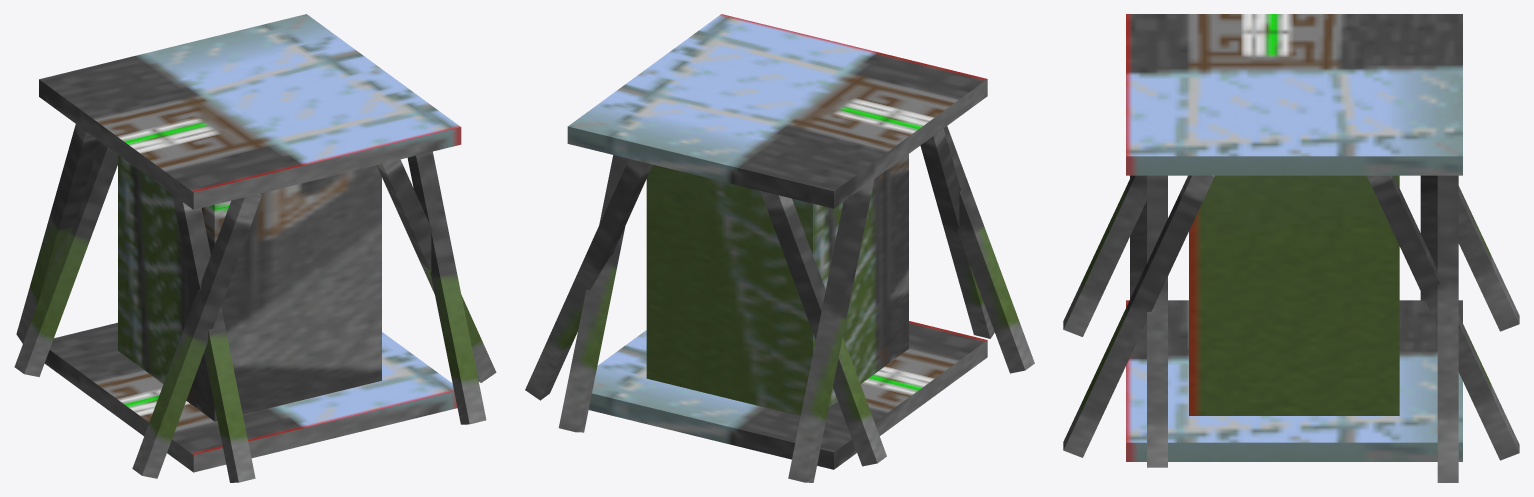
File: elevator_base.obj
3 views of the same model, side by side, from view 1: azimuth 30°, elevation 25°; view 2: azimuth 150°, elevation 25°; view 3: azimuth 270°, elevation 25° (orthographic). The views are drawn at different scales.
Parts seen in each view (by area): view 1: Floor, Pole5, Base, Support5, Support4, Support3, Support6, Support1, Support7; view 2: Floor, Pole5, Base, Support1, Support6, Support8, Support5, Support2, Support3; view 3: Floor, Pole5, Base, Support4, Support8, Support2, Support7, Support3, Support1, Support6, Support5.
Part boxes in pixels (left/top/right/bottom): Floor: left=39, top=14, right=461, bottom=209; Pole5: left=118, top=155, right=381, bottom=421; Base: left=44, top=322, right=457, bottom=472; Support5: left=132, top=194, right=261, bottom=478; Support4: left=407, top=151, right=486, bottom=424; Support3: left=172, top=194, right=255, bottom=482; Support6: left=14, top=141, right=117, bottom=377; Support1: left=16, top=124, right=98, bottom=343; Support7: left=376, top=159, right=496, bottom=382; Floor: left=567, top=14, right=987, bottom=208; Pole5: left=646, top=154, right=908, bottom=415; Base: left=588, top=321, right=987, bottom=469; Support1: left=788, top=179, right=874, bottom=482; Support6: left=760, top=191, right=886, bottom=466; Support8: left=525, top=159, right=652, bottom=400; Support5: left=943, top=126, right=1034, bottom=373; Support2: left=558, top=155, right=628, bottom=432; Support3: left=920, top=129, right=994, bottom=338; Floor: left=1126, top=14, right=1462, bottom=175; Pole5: left=1189, top=175, right=1399, bottom=415; Base: left=1126, top=300, right=1462, bottom=461; Support4: left=1063, top=175, right=1214, bottom=457; Support8: left=1437, top=175, right=1458, bottom=482; Support2: left=1367, top=175, right=1519, bottom=460; Support7: left=1147, top=175, right=1167, bottom=467; Support3: left=1063, top=175, right=1146, bottom=336; Support1: left=1458, top=186, right=1519, bottom=331; Support6: left=1420, top=175, right=1437, bottom=300; Support5: left=1130, top=175, right=1146, bottom=298.
Size of the model in its own units: 1.35 by 1.03 by 1.35.
